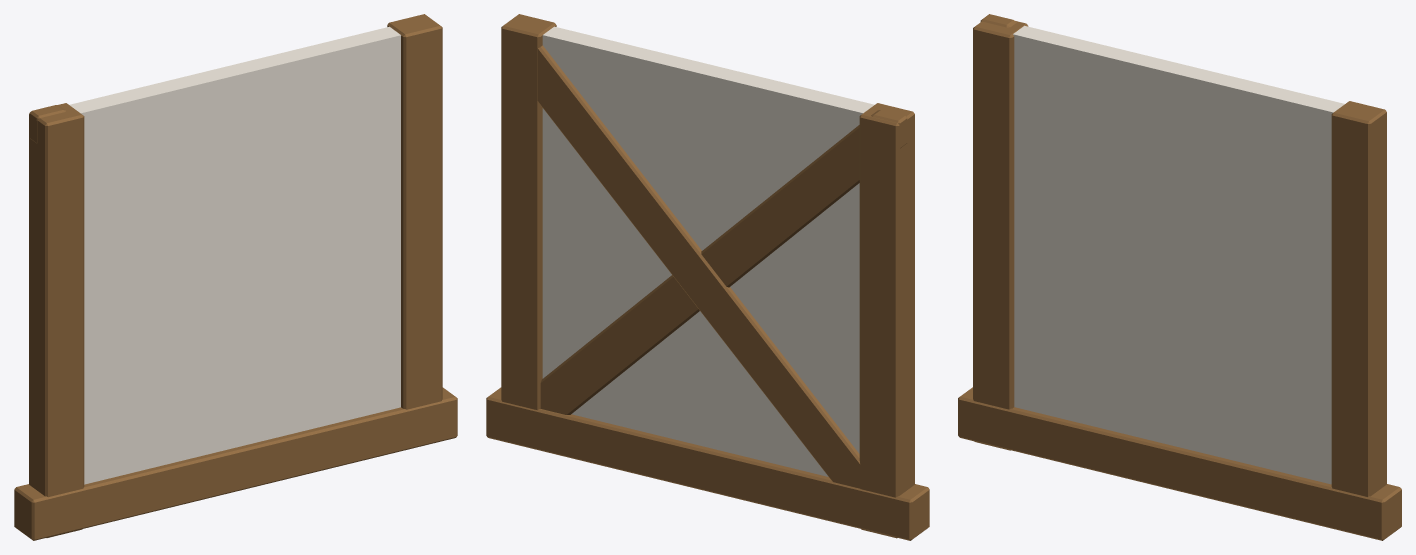
File: WallCrossX.fbx
3 renders of one model, left to right at view 1: azimuth 30°, elevation 25°; view 2: azimuth 150°, elevation 25°; view 3: azimuth 330°, elevation 25°, orthographic.
Visible parts, largest first — view 1: Cube.072, Cube.081, Cube.084, Cube.080; view 2: Cube.072, Cube.081, Cube.079, Cube.084, Cube.083, Cube.080; view 3: Cube.072, Cube.080, Cube.084, Cube.081.
Part boxes in pixels (box(x1,y1,x2,y2)): Cube.072: box(69, 26, 400, 484); Cube.081: box(29, 103, 84, 537); Cube.084: box(14, 387, 457, 540); Cube.080: box(387, 14, 442, 409); Cube.072: box(542, 26, 874, 476); Cube.081: box(859, 103, 914, 538); Cube.079: box(537, 45, 860, 488); Cube.084: box(486, 387, 929, 540); Cube.083: box(540, 110, 907, 414); Cube.080: box(501, 14, 556, 410); Cube.072: box(1013, 25, 1344, 484); Cube.080: box(1331, 101, 1386, 496); Cube.084: box(958, 387, 1401, 540); Cube.081: box(973, 21, 1028, 450).
Bounding box in the file's own units: 216 × 202 × 17.27.
